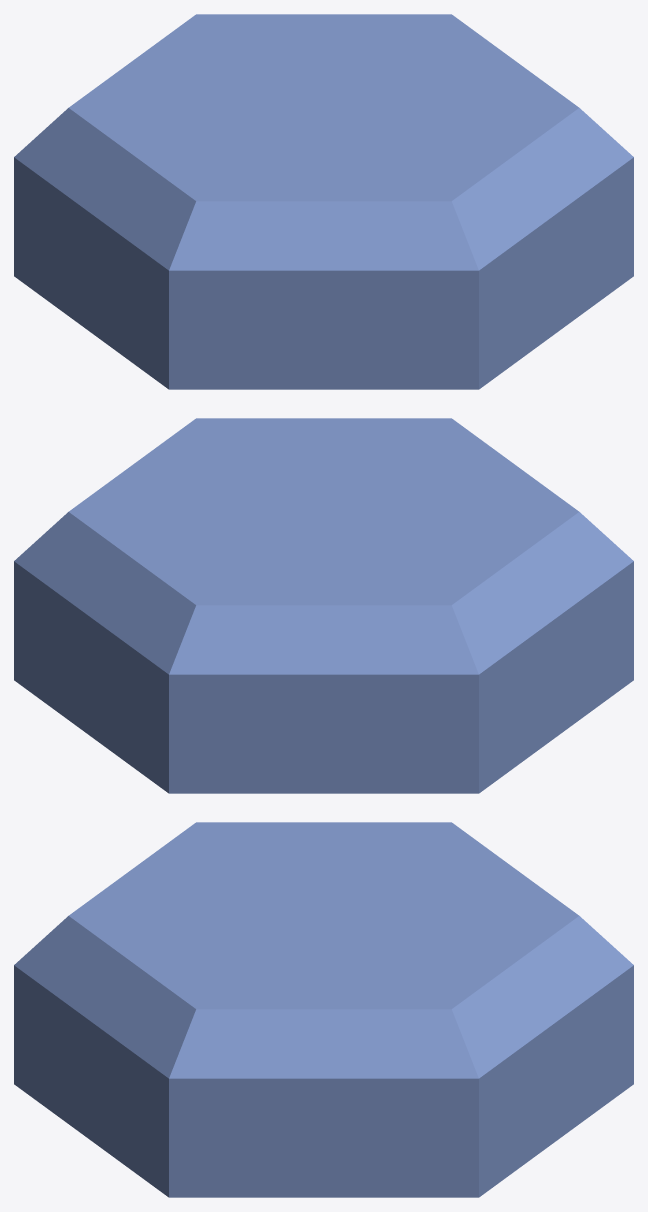
File: HexButton.fbx
3 views of the same model, one above another, from view 1: azimuth 30°, elevation 25°; view 2: azimuth 150°, elevation 25°; view 3: azimuth 270°, elevation 25° (orthographic).
Parts seen in each view (by area): view 1: obj_0; view 2: obj_0; view 3: obj_0.
Part boxes in pixels (<box>): obj_0: <box>14,14,633,389</box>; obj_0: <box>14,418,633,793</box>; obj_0: <box>14,822,633,1197</box>.
Size of the model in its own units: 1732 by 600 by 2000.
